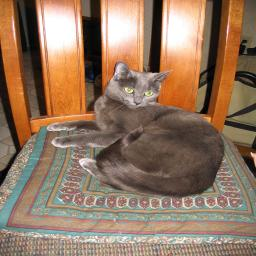catnose: (134, 100, 142, 106)
